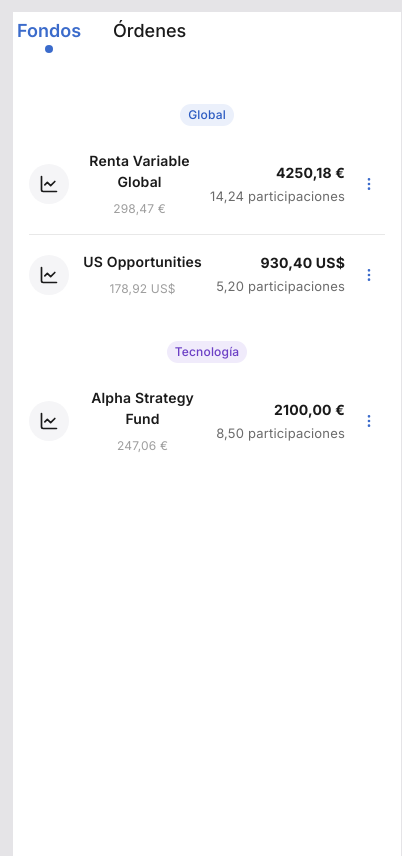
Test: PortfolioView › shows sell and transfer enabled with icons inside the contextual menu when there is a valid destination
Click the button named "acciones para alpha strategy fund". click: (369,421)
box: x1=353 y1=405 x2=385 y2=437
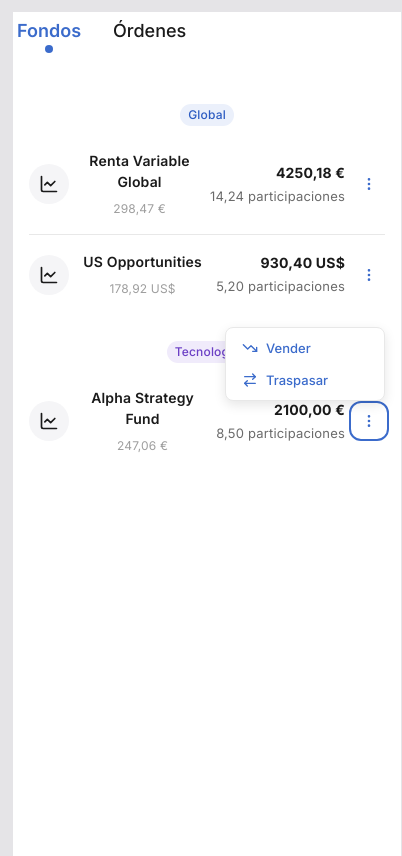
Result: the menu item "Vender" is enabled at x1=226 y1=332 x2=384 y2=364
Result: the menu item "Traspasar" is enabled at x1=226 y1=364 x2=384 y2=396
Result: the 5th icon is shown at x1=242 y1=340 x2=258 y2=356
